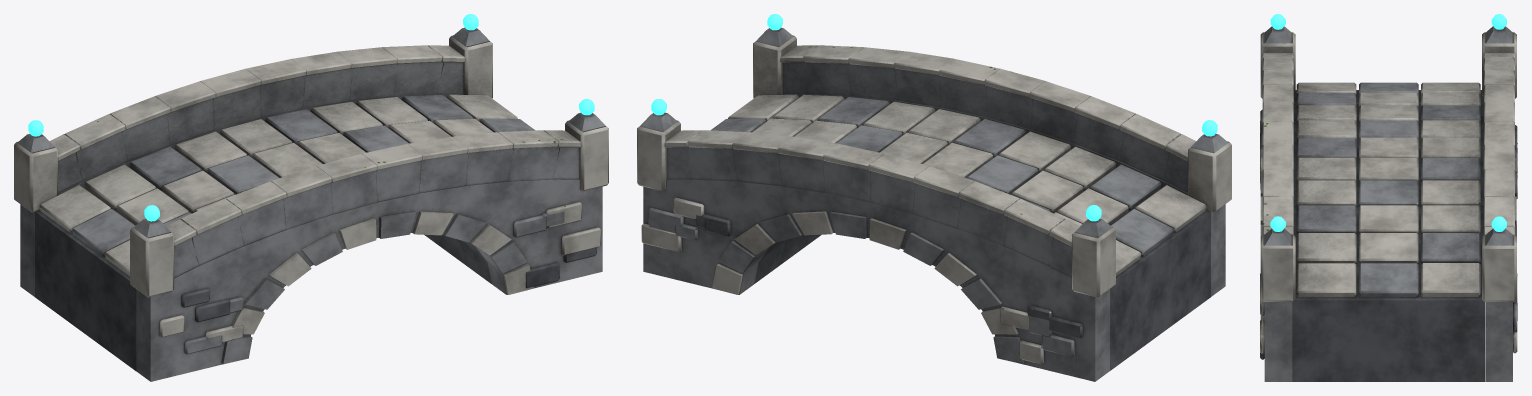
The model's file is puente_rio_piedra.fbx.
3 renders of one model, left to right at view 1: azimuth 30°, elevation 25°; view 2: azimuth 150°, elevation 25°; view 3: azimuth 270°, elevation 25°, orthographic. The views are drawn at different scales.
Visible parts, largest first — view 1: puente_rio_piedra, puente_rio_piedra_neon; view 2: puente_rio_piedra, puente_rio_piedra_neon; view 3: puente_rio_piedra, puente_rio_piedra_neon.
Boxes of the visible parts, box(x1,y1,x2,y2) form: puente_rio_piedra: box(14, 27, 608, 381); puente_rio_piedra_neon: box(28, 14, 594, 221); puente_rio_piedra: box(637, 27, 1231, 381); puente_rio_piedra_neon: box(651, 14, 1217, 221); puente_rio_piedra: box(1260, 26, 1517, 381); puente_rio_piedra_neon: box(1270, 14, 1506, 231).
Bounding box in the file's own units: 8.2 × 2.86 × 4.15.
2 materials, 2 textured.
